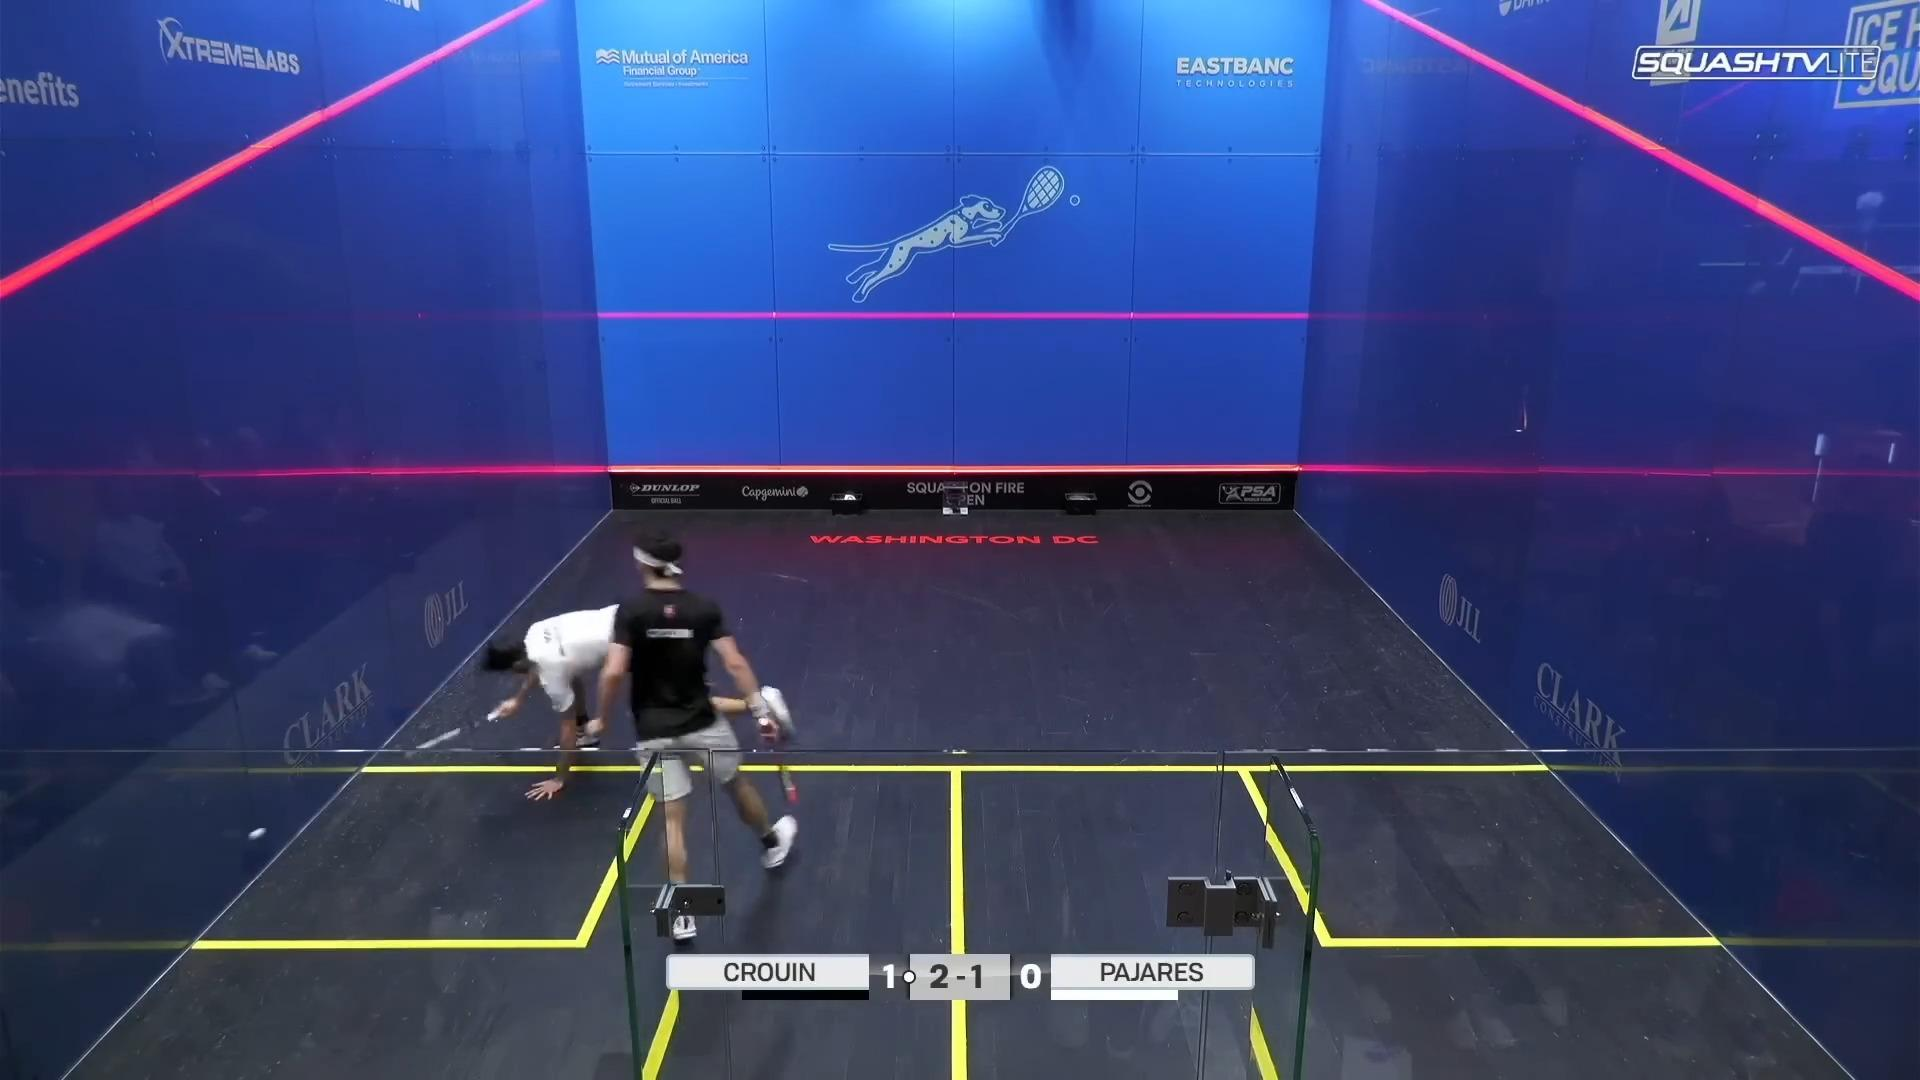Squash-Ball: (236, 820, 276, 851)
